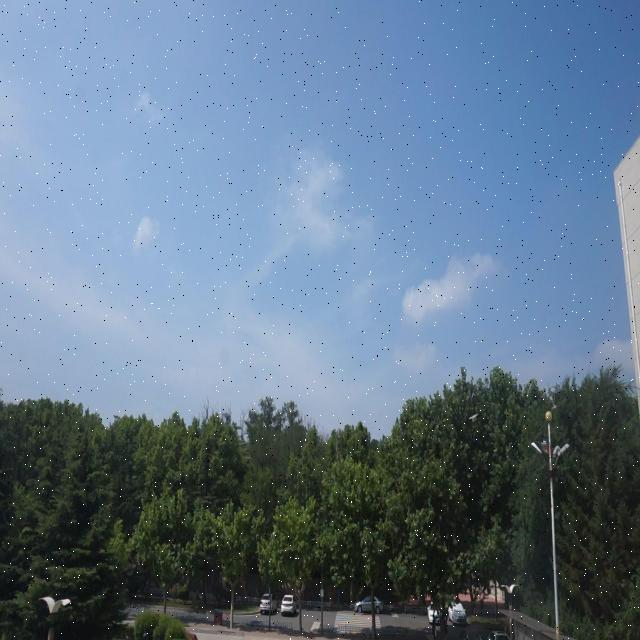UAV: (469, 414, 478, 422)
